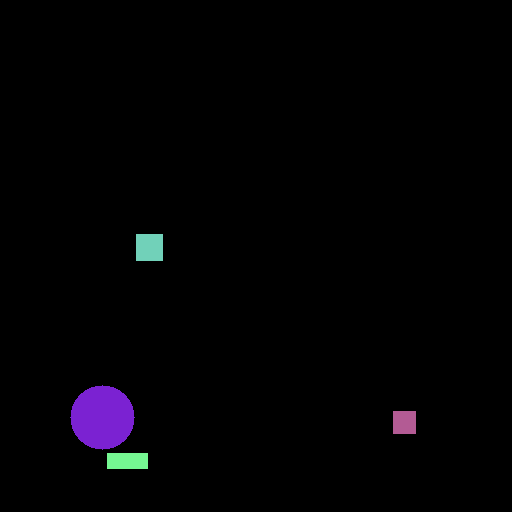circle: (71, 382, 138, 450)
side_rect: (104, 451, 151, 472)
square: (133, 231, 166, 262), (394, 411, 416, 434)
